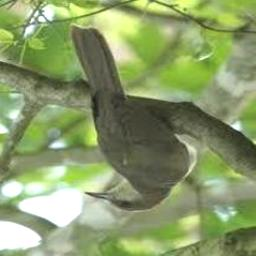Cuckoo: (71, 25, 197, 212)
